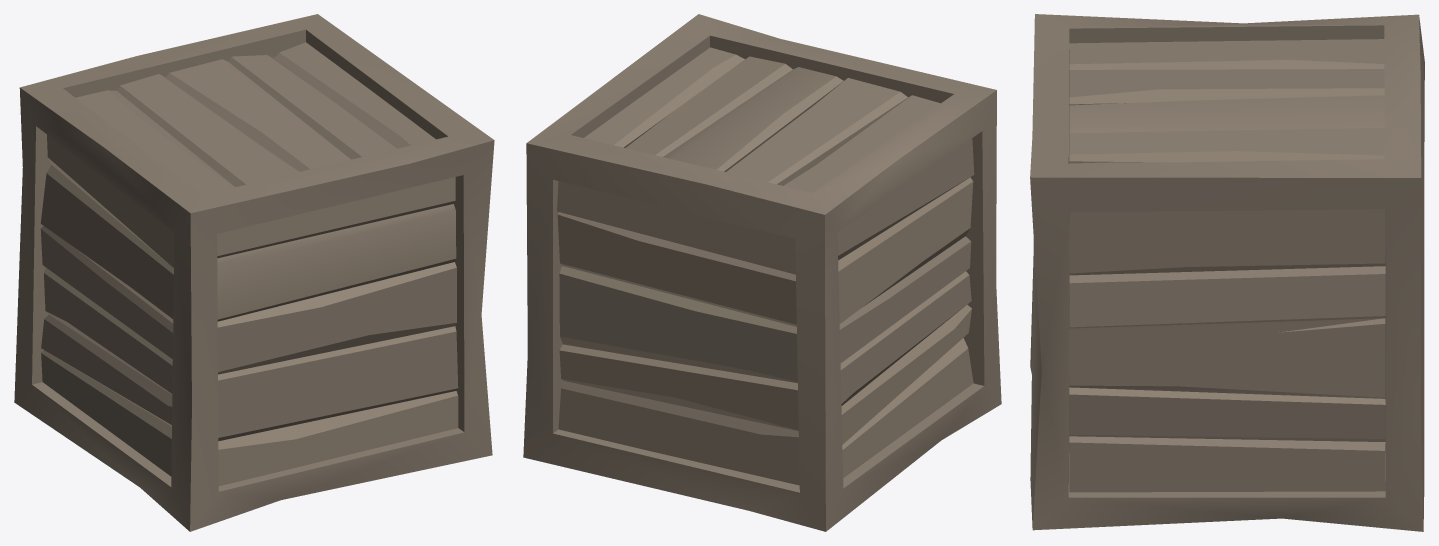
File: crate3.glb
3 renders of one model, left to right at view 1: azimuth 30°, elevation 25°; view 2: azimuth 150°, elevation 25°; view 3: azimuth 270°, elevation 25°, orthographic. The views are drawn at different scales.
Parts seen in each view (by area): view 1: Plane; view 2: Plane; view 3: Plane.
Boxes of the visible parts, bbox=[...] form: Plane: bbox=[14, 14, 494, 531]; Plane: bbox=[523, 14, 1001, 531]; Plane: bbox=[1030, 14, 1424, 531].
Size of the model in its own units: 1.01 by 1.02 by 1.01.
